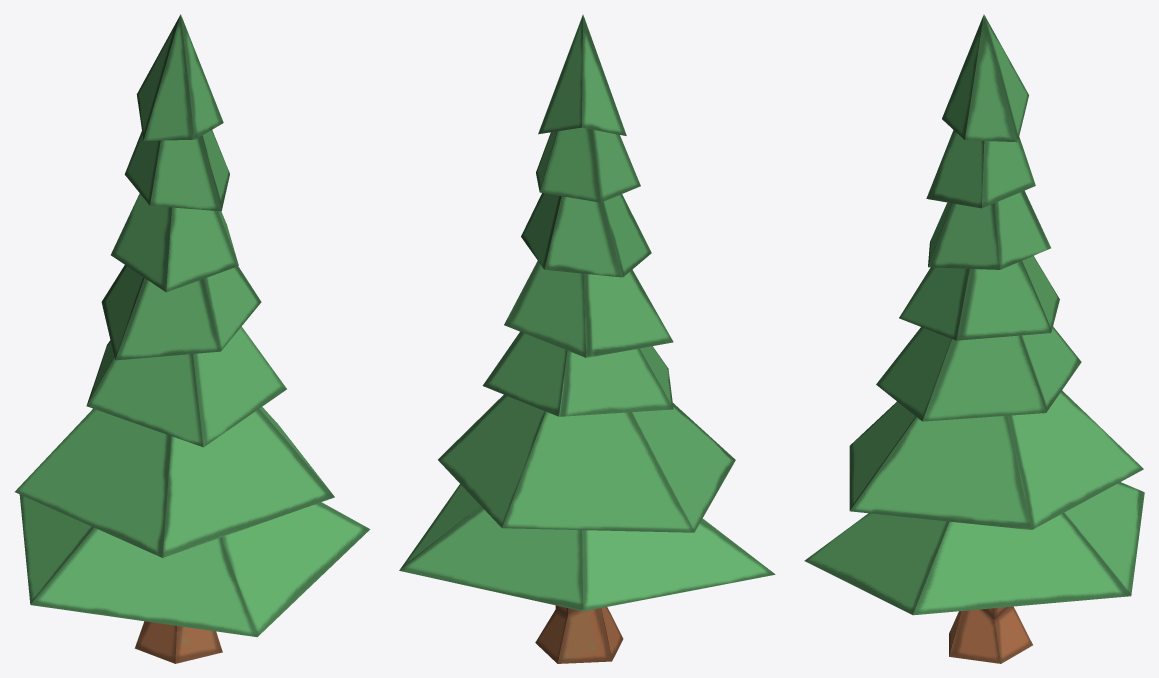
Rendered from TreeBig.fbx.
The picture shows the model from 3 angles, left to right: view 1: azimuth 30°, elevation 25°; view 2: azimuth 150°, elevation 25°; view 3: azimuth 270°, elevation 25°; orthographic projection.
Parts seen in each view (by area): view 1: TreeBig_LOD0; view 2: TreeBig_LOD0; view 3: TreeBig_LOD0.
Part boxes in pixels (left/top/right/bottom): TreeBig_LOD0: left=15, top=14, right=370, bottom=663; TreeBig_LOD0: left=399, top=14, right=775, bottom=663; TreeBig_LOD0: left=804, top=14, right=1144, bottom=663.
Size of what is drawn, in the model's own units: 1441 by 2671 by 1307.
